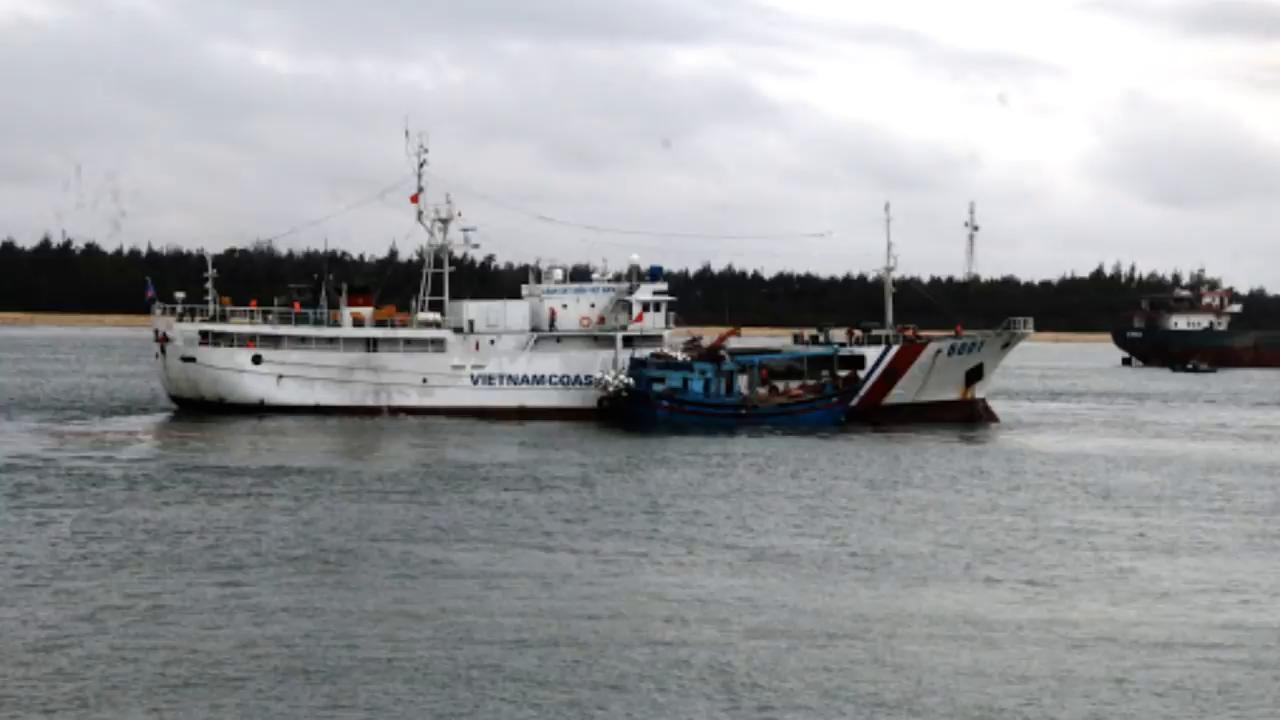Ship: (609, 350, 870, 432)
